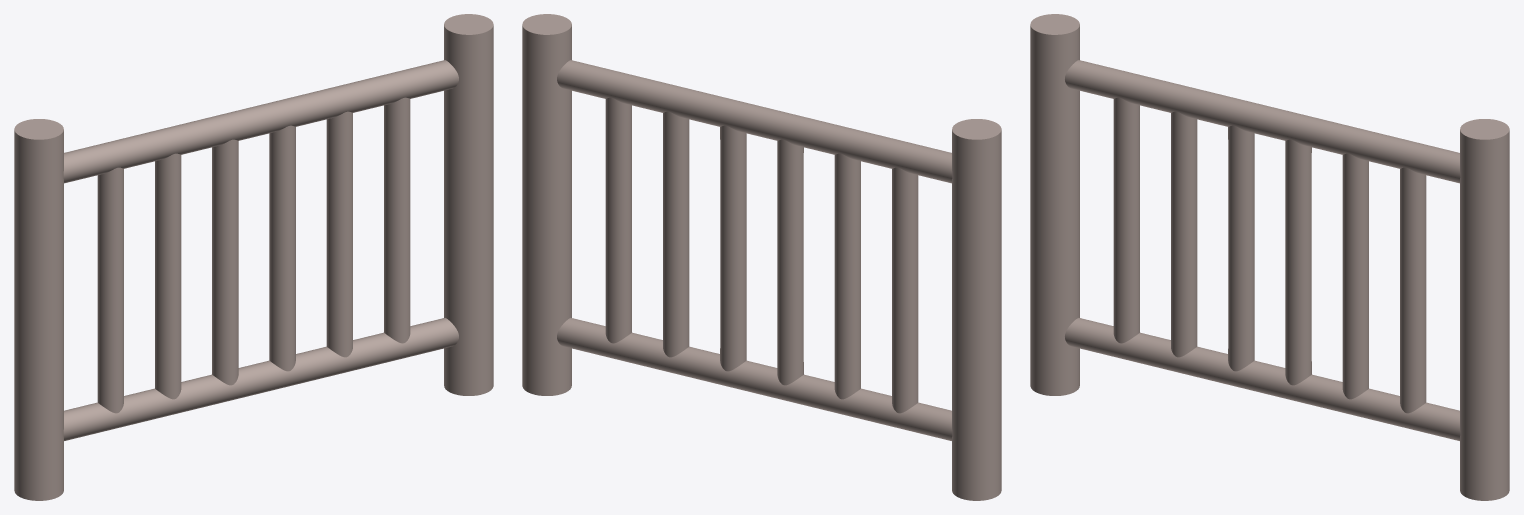
The model's file is 1027_fence_1.glb.
3 views of the same model, side by side, from view 1: azimuth 30°, elevation 25°; view 2: azimuth 150°, elevation 25°; view 3: azimuth 330°, elevation 25° (orthographic).
Visible parts, largest first — view 1: Body; view 2: Body; view 3: Body.
Part boxes in pixels (box(x1,y1,x2,y2)): Body: box(14, 14, 493, 500); Body: box(522, 14, 1001, 500); Body: box(1030, 14, 1509, 500).
Bounding box in the file's own units: 1.65 × 1.21 × 0.15.
